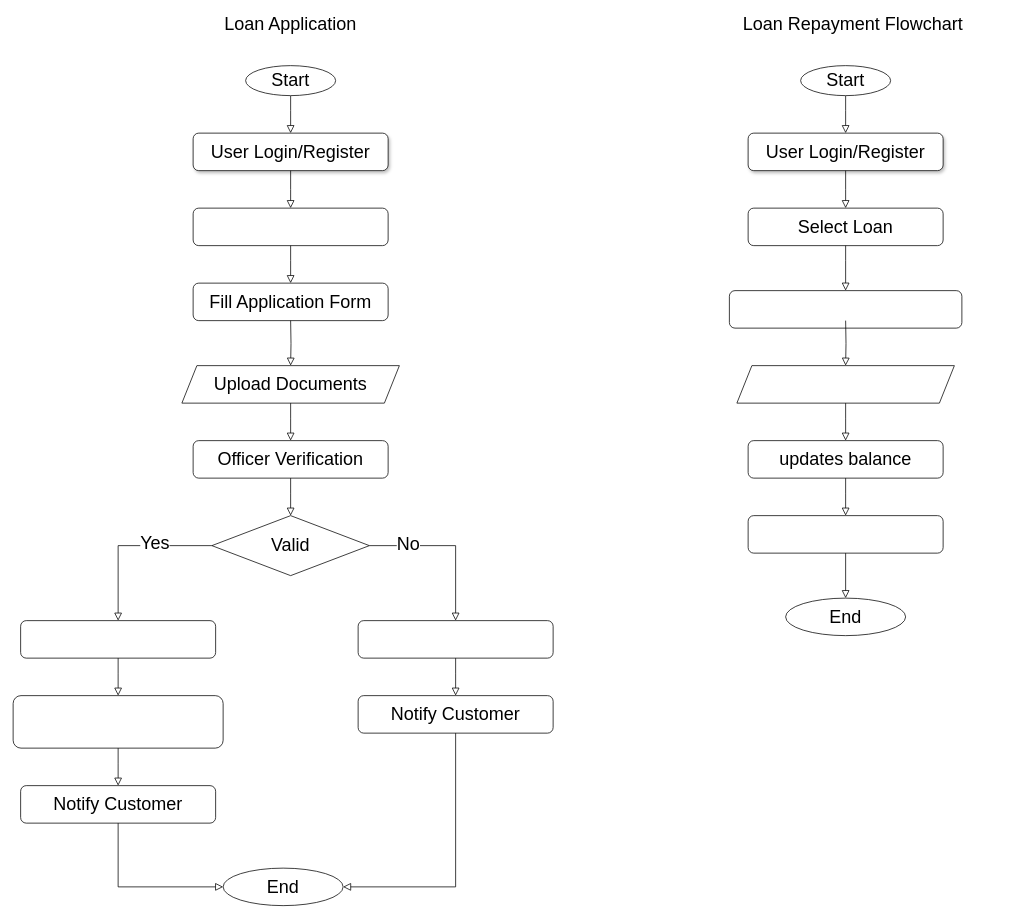
This 1024x919 diagram has some shape labels left out. Each missing label, with the centre of its shape:
Approve Loan: (x=118, y=639)
Generate Repayment Schedule: (x=117, y=721)
makes payment: (x=845, y=384)
receipt generated: (x=845, y=534)
Reject Loan: (x=455, y=639)
Select Loan Scheme: (x=290, y=226)
System shows installment: (x=845, y=309)
